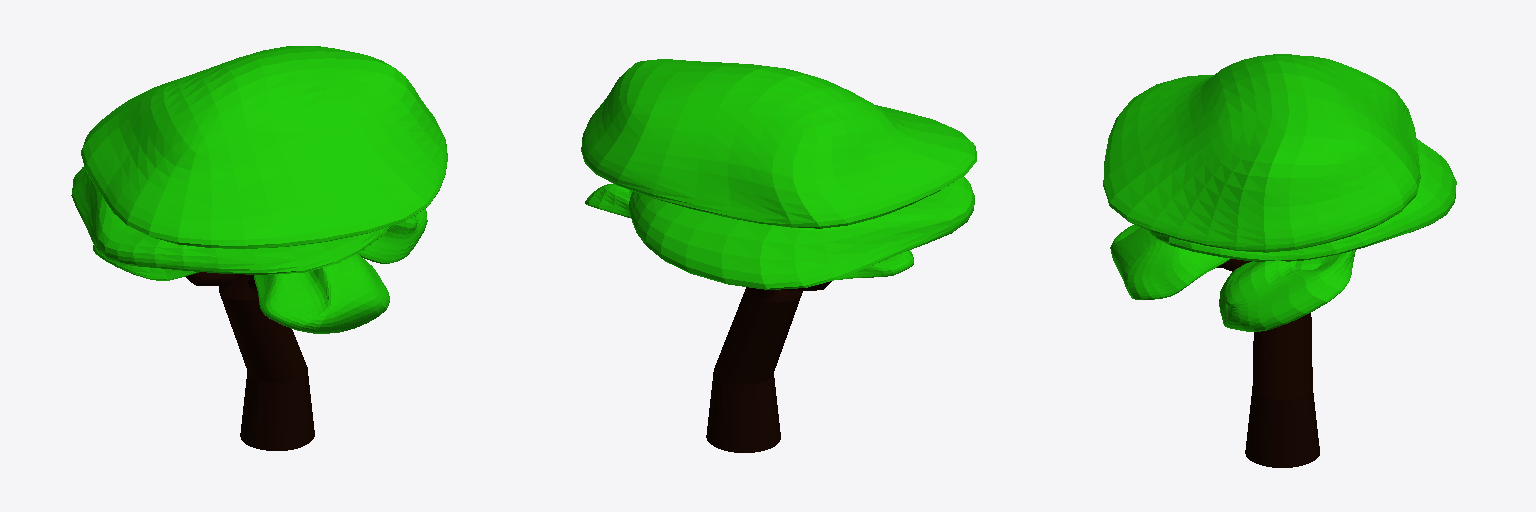
Rendered from tree5.obj.
3 views of the same model, side by side, from view 1: azimuth 30°, elevation 25°; view 2: azimuth 150°, elevation 25°; view 3: azimuth 270°, elevation 25° (orthographic).
Visible parts, largest first — view 1: tree5; view 2: tree5; view 3: tree5.
Part boxes in pixels (x1,y1,x2,y2): tree5: (71, 46, 447, 450); tree5: (581, 59, 976, 452); tree5: (1103, 54, 1456, 467).
Bounding box in the file's own units: 4.48 × 4.56 × 3.91.